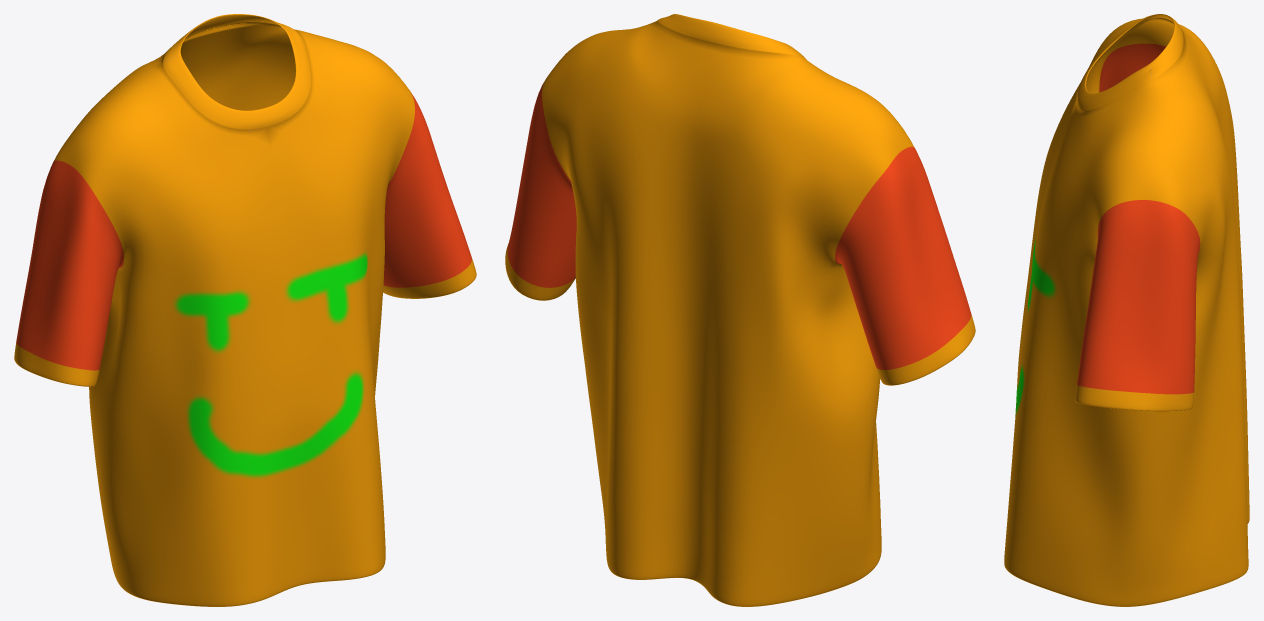
Rendered from dress0001.glb.
The picture shows the model from 3 angles, left to right: view 1: azimuth 30°, elevation 25°; view 2: azimuth 150°, elevation 25°; view 3: azimuth 270°, elevation 25°; orthographic projection. The views are drawn at different scales.
Visible parts, largest first — view 1: T-Shirt; view 2: T-Shirt; view 3: T-Shirt.
Part boxes in pixels (<box>): T-Shirt: <box>14,14,476,606</box>; T-Shirt: <box>505,14,975,606</box>; T-Shirt: <box>1004,14,1249,606</box>.
Size of the model in its own units: 16.03 by 18.55 by 7.89.
Materials: 1 (1 with a texture image).
